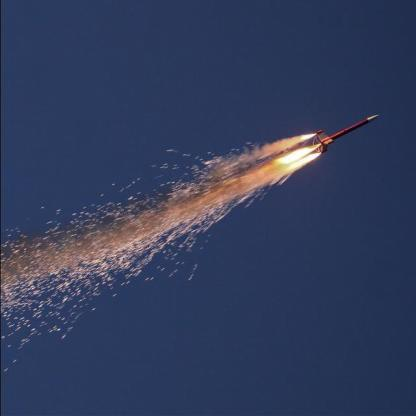MIL_TBM: (313, 110, 385, 154)
